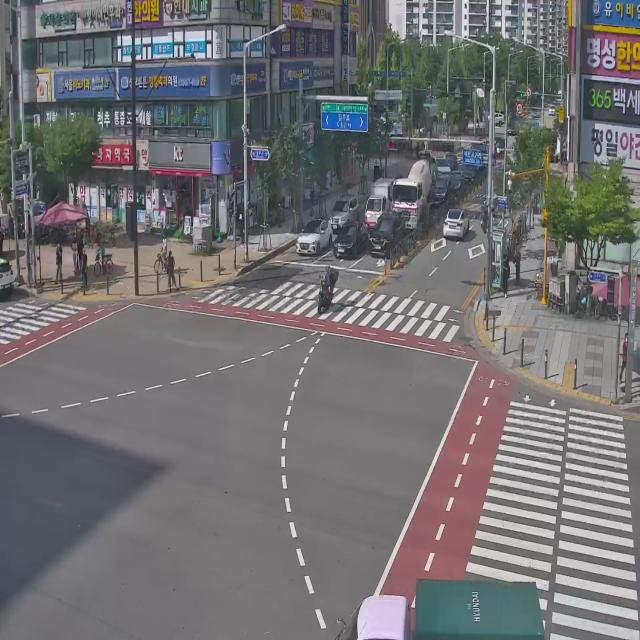Car: (369, 211, 406, 257), (334, 220, 369, 259), (296, 218, 332, 255), (328, 191, 360, 231), (443, 208, 470, 239), (431, 171, 452, 207), (0, 258, 14, 297), (449, 167, 466, 194), (434, 156, 450, 176)
Motorcycle: (317, 266, 339, 315)
Truck: (309, 544, 555, 640), (390, 156, 431, 231), (363, 172, 397, 223)
